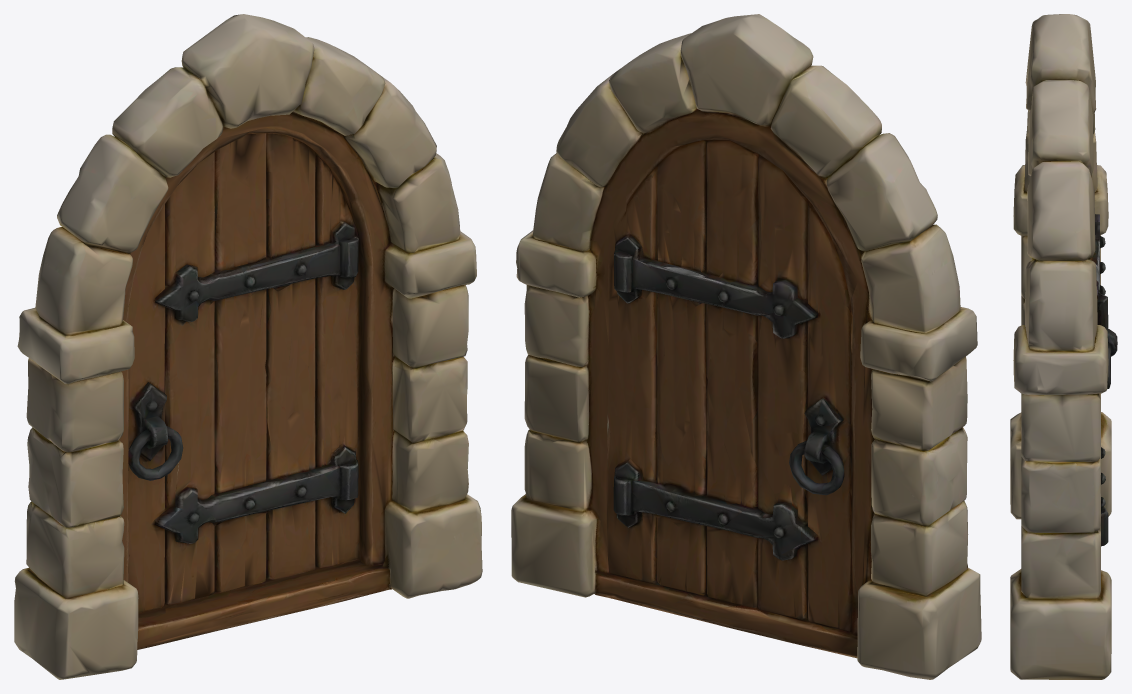
The model's file is mod_door_a.glb.
The picture shows the model from 3 angles, left to right: view 1: azimuth 30°, elevation 25°; view 2: azimuth 150°, elevation 25°; view 3: azimuth 270°, elevation 25°; orthographic projection. The views are drawn at different scales.
Visible parts, largest first — view 1: tripo_node_a4861236-ad98-44f0-a81e-830093c8b996; view 2: tripo_node_a4861236-ad98-44f0-a81e-830093c8b996; view 3: tripo_node_a4861236-ad98-44f0-a81e-830093c8b996.
Part boxes in pixels (x1,y1,x2,y2): tripo_node_a4861236-ad98-44f0-a81e-830093c8b996: [14, 14, 482, 679]; tripo_node_a4861236-ad98-44f0-a81e-830093c8b996: [511, 14, 981, 679]; tripo_node_a4861236-ad98-44f0-a81e-830093c8b996: [1010, 14, 1117, 679].
Size of the model in its own units: 0.7233 by 0.9796 by 0.1666.
Materials: 1 (1 with a texture image).
